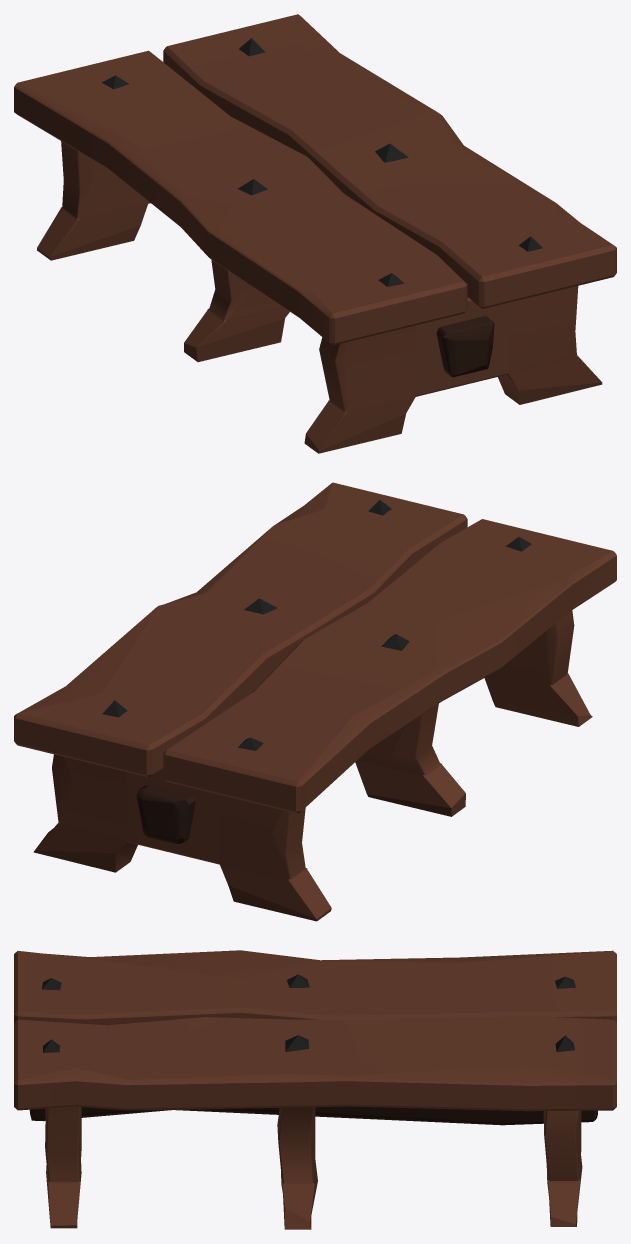
File: Env_Table.fbx
3 views of the same model, one above another, from view 1: azimuth 30°, elevation 25°; view 2: azimuth 150°, elevation 25°; view 3: azimuth 270°, elevation 25° (orthographic). The views are drawn at different scales.
Visible parts, largest first — view 1: Env_Table; view 2: Env_Table; view 3: Env_Table.
Boxes of the visible parts, x1,y1,x2,y2 form: Env_Table: (14, 14, 616, 453); Env_Table: (14, 482, 616, 921); Env_Table: (14, 950, 616, 1229).
Size of the model in its own units: 4.29 by 2.29 by 8.
